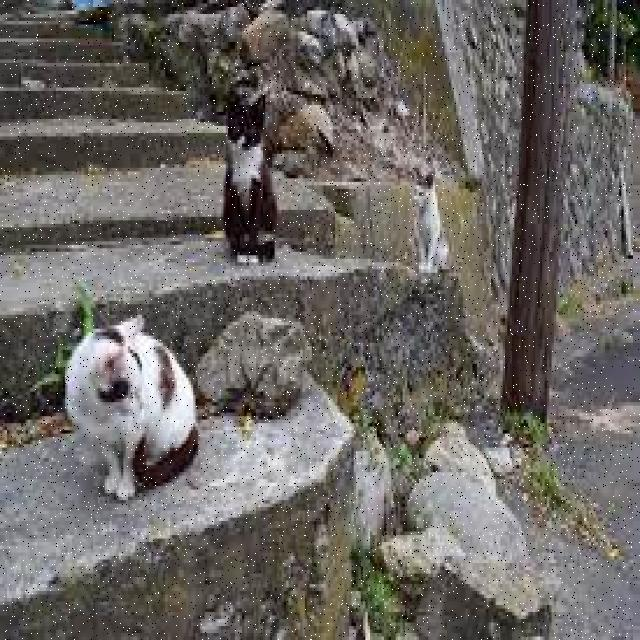cat: (66, 316, 199, 499), (224, 77, 277, 260), (416, 167, 449, 271)
